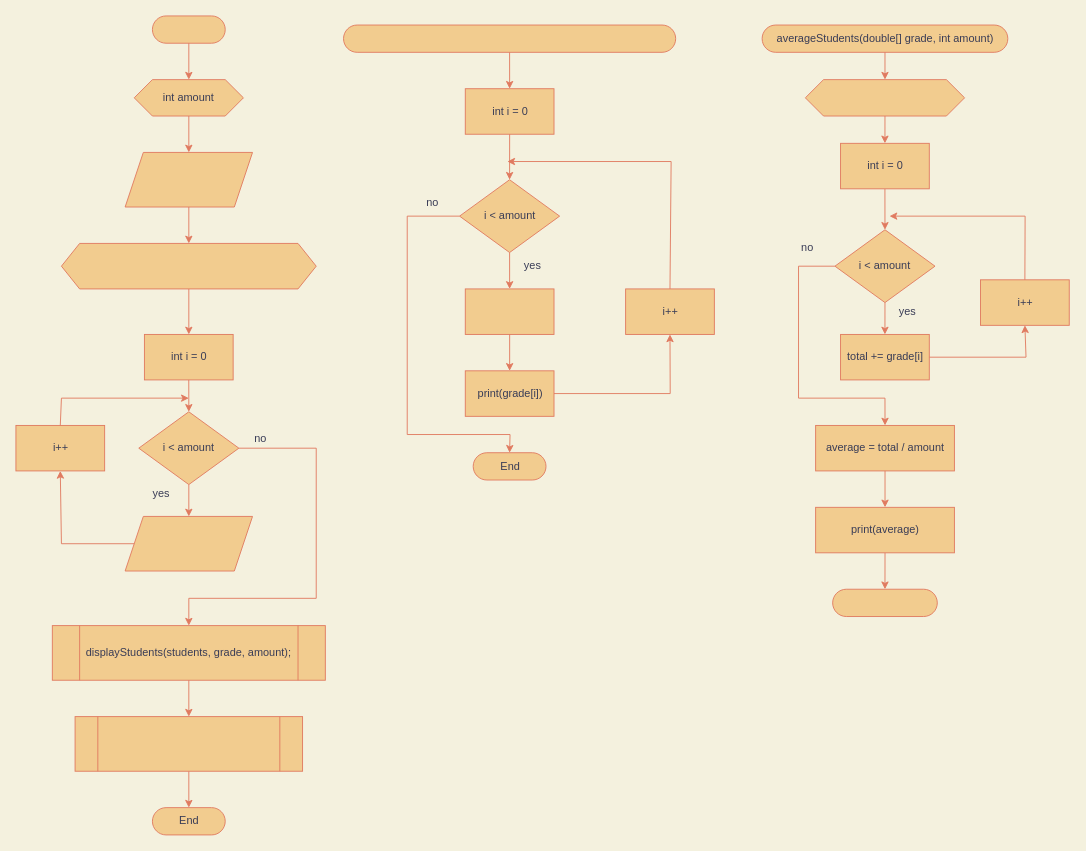
This 1086x851 diagram has some shape labels left out. Here are the shapes that lost their labels. From the top down, the centre of each, then its label:
At point 188,29: "Start".
At point 509,38: "displayStudents(String[] students, double[] grade, int amount)".
At point 884,97: "double average = 0, total = 0;".
At point 188,179: "input amount".
At point 188,266: "double [] grade = new double[amount]; String [] students = new String[amount];".
At point 509,311: "print(students[i])".
At point 188,543: "input name, grade".
At point 884,602: "return average".
At point 188,743: "averageStudents(grade, amount);".
